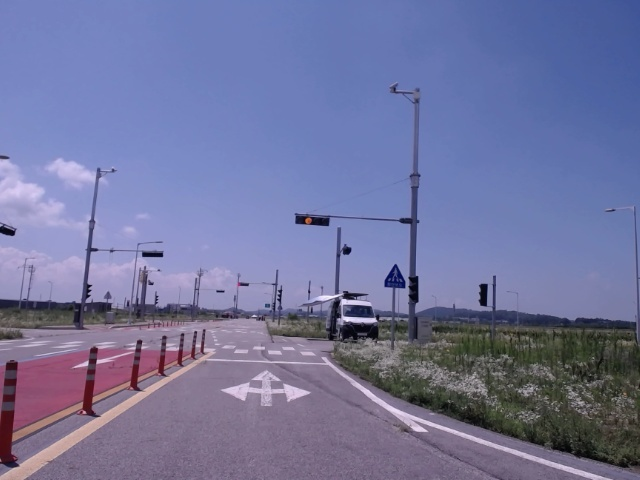orange_4: (296, 214, 330, 227)
